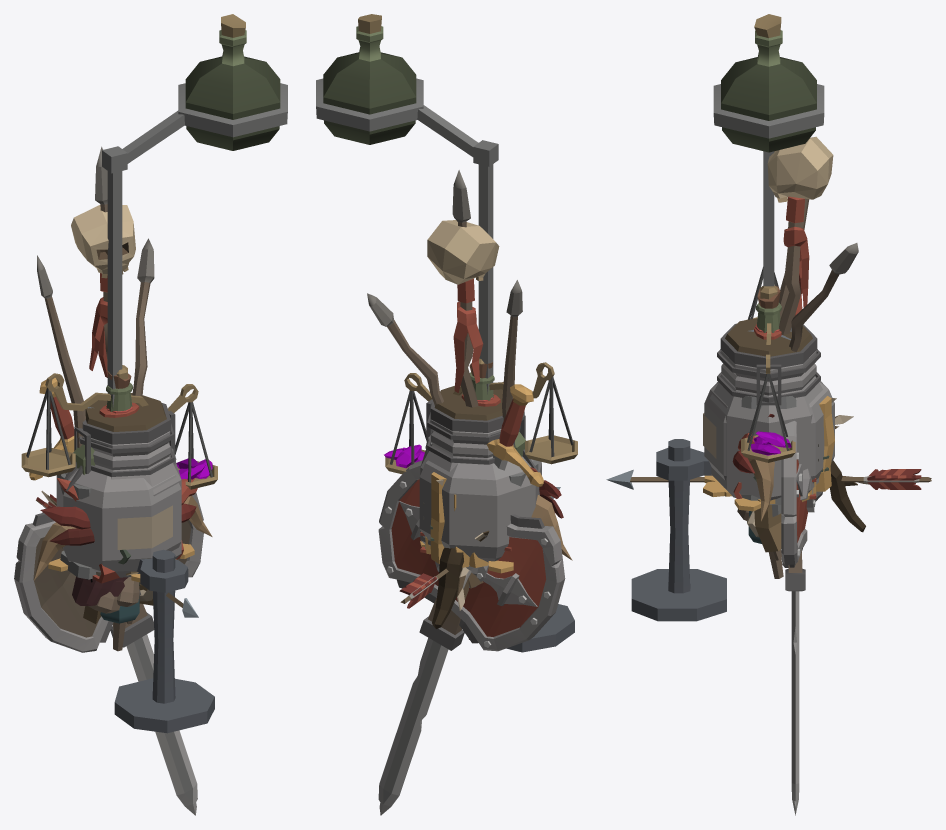
Rendered from Items.fbx.
3 renders of one model, left to right at view 1: azimuth 30°, elevation 25°; view 2: azimuth 150°, elevation 25°; view 3: azimuth 270°, elevation 25°, orthographic. The views are drawn at different scales.
Parts seen in each view (by area): view 1: SM_Item_Potion_Pole_01, SM_Item_Jar_01, SM_Item_Chr_Goblin_WarBanner_01, SM_Item_Vial_02, SM_Item_Jar_02, SM_Item_Chr_Shield_01, SM_Item_Scale_01, SM_Item_Chr_Sword_01, SM_Item_Chr_Mask_02, SM_Item_Potion_08, SM_Item_Chr_Shrunken_Head_01, SM_Item_Vial_01 (+1 smaller); view 2: SM_Item_Chr_Shield_01, SM_Item_Potion_Pole_01, SM_Item_Chr_Goblin_WarBanner_01, SM_Item_Jar_01, SM_Item_Chr_Sword_01, SM_Item_Jar_02, SM_Item_Scale_01, SM_Item_Chr_Goblin_Hair_01, SM_Item_Vial_02, SM_Item_Coins_03, SM_Item_Chr_Mask_02, SM_Item_Potion_08 (+2 smaller); view 3: SM_Item_Potion_Pole_01, SM_Item_Jar_02, SM_Item_Chr_Goblin_WarBanner_01, SM_Item_Vial_02, SM_Item_Chr_Shield_01, SM_Item_Jar_01, SM_Item_Chr_Sword_01, SM_Item_Scale_01, SM_item_Arrow_01, SM_Item_Coins_03, SM_Item_Chr_Mask_02, SM_Item_Potion_08 (+1 smaller).
Part boxes in pixels (x1=…): SM_Item_Potion_Pole_01: x1=102, y1=14, x2=287, y2=408; SM_Item_Jar_01: x1=56, y1=407, x2=181, y2=577; SM_Item_Chr_Goblin_WarBanner_01: x1=37, y1=146, x2=154, y2=651; SM_Item_Vial_02: x1=114, y1=549, x2=214, y2=733; SM_Item_Jar_02: x1=60, y1=393, x2=181, y2=559; SM_Item_Chr_Shield_01: x1=14, y1=492, x2=203, y2=652; SM_Item_Scale_01: x1=21, y1=365, x2=217, y2=489; SM_Item_Chr_Sword_01: x1=29, y1=378, x2=197, y2=815; SM_Item_Chr_Mask_02: x1=34, y1=478, x2=212, y2=580; SM_Item_Potion_08: x1=73, y1=371, x2=139, y2=474; SM_Item_Chr_Shrunken_Head_01: x1=72, y1=576, x2=127, y2=605; SM_Item_Vial_01: x1=60, y1=448, x2=176, y2=579; SM_Item_Chr_Shield_01: x1=378, y1=460, x2=565, y2=651; SM_Item_Potion_Pole_01: x1=316, y1=14, x2=498, y2=394; SM_Item_Chr_Goblin_WarBanner_01: x1=367, y1=170, x2=522, y2=639; SM_Item_Jar_01: x1=419, y1=418, x2=541, y2=562; SM_Item_Chr_Sword_01: x1=378, y1=384, x2=543, y2=815; SM_Item_Jar_02: x1=420, y1=385, x2=538, y2=545; SM_Item_Scale_01: x1=384, y1=358, x2=577, y2=474; SM_Item_Chr_Goblin_Hair_01: x1=432, y1=547, x2=463, y2=628; SM_Item_Vial_02: x1=506, y1=604, x2=574, y2=652; SM_Item_Coins_03: x1=430, y1=472, x2=504, y2=569; SM_Item_Chr_Mask_02: x1=530, y1=467, x2=572, y2=560; SM_Item_Potion_08: x1=461, y1=362, x2=525, y2=456; SM_Item_Potion_Pole_01: x1=713, y1=14, x2=824, y2=286; SM_Item_Jar_02: x1=709, y1=318, x2=822, y2=500; SM_Item_Chr_Goblin_WarBanner_01: x1=754, y1=136, x2=858, y2=578; SM_Item_Vial_02: x1=631, y1=439, x2=726, y2=621; SM_Item_Chr_Shield_01: x1=781, y1=421, x2=822, y2=567; SM_Item_Jar_01: x1=703, y1=328, x2=834, y2=483; SM_Item_Chr_Sword_01: x1=785, y1=294, x2=805, y2=815; SM_Item_Scale_01: x1=741, y1=267, x2=795, y2=462; SM_item_Arrow_01: x1=606, y1=469, x2=931, y2=489; SM_Item_Coins_03: x1=703, y1=396, x2=834, y2=501; SM_Item_Chr_Mask_02: x1=732, y1=414, x2=774, y2=521; SM_Item_Potion_08: x1=754, y1=285, x2=781, y2=339.
Bounding box in the file's own units: 88.7 × 254 × 92.97.
